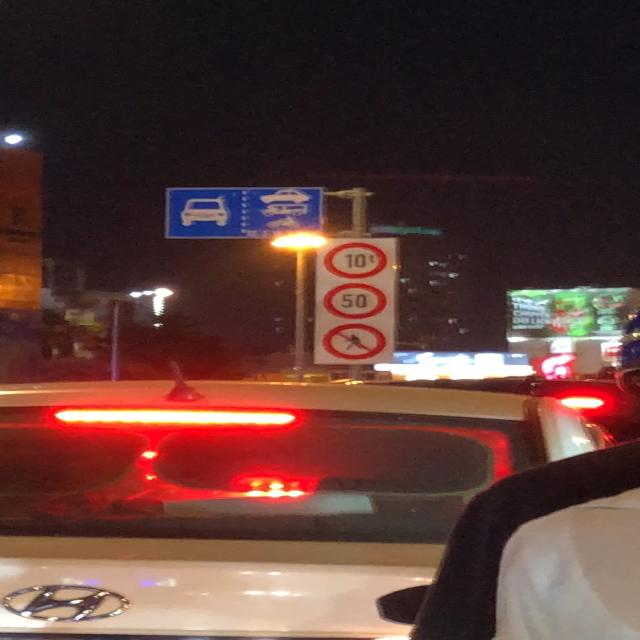Bien bao cam nguoi di bo: (321, 323, 389, 361)
Bien bao toc do toi da cho phep: (322, 282, 387, 320)
